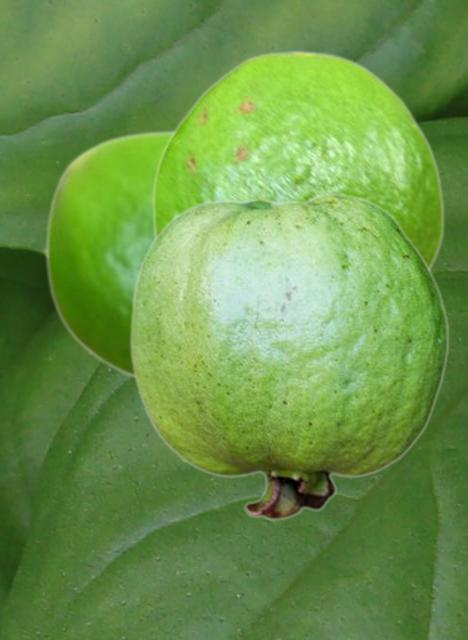guava: (129, 193, 449, 520), (151, 49, 444, 271), (44, 129, 172, 380)
